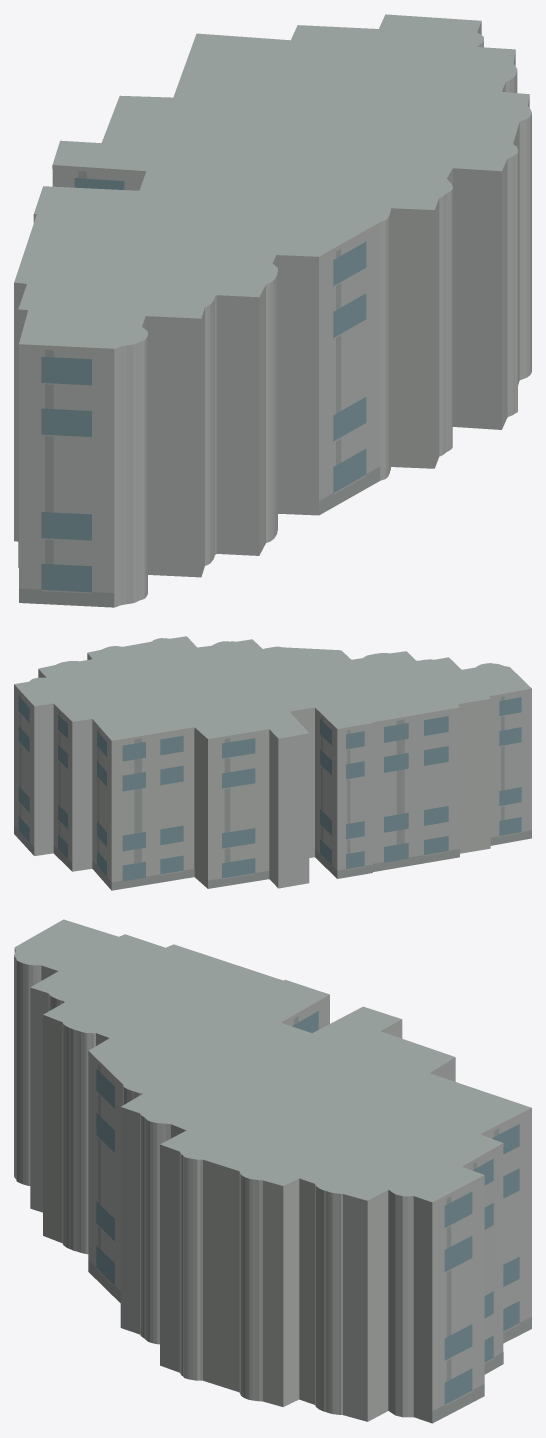
File: survey-upis-32921203.glb
3 renders of one model, top to bottom at view 1: azimuth 30°, elevation 25°; view 2: azimuth 150°, elevation 25°; view 3: azimuth 270°, elevation 25°, orthographic. The views are drawn at different scales.
Visible parts, largest first — view 1: survey-upis-32921203.tmp; view 2: survey-upis-32921203.tmp; view 3: survey-upis-32921203.tmp.
Part boxes in pixels (x1,y1,x2,y2): survey-upis-32921203.tmp: (14, 14, 531, 607); survey-upis-32921203.tmp: (14, 636, 531, 890); survey-upis-32921203.tmp: (14, 919, 531, 1423).
Bounding box in the file's own units: 38.98 × 14.2 × 30.14.
